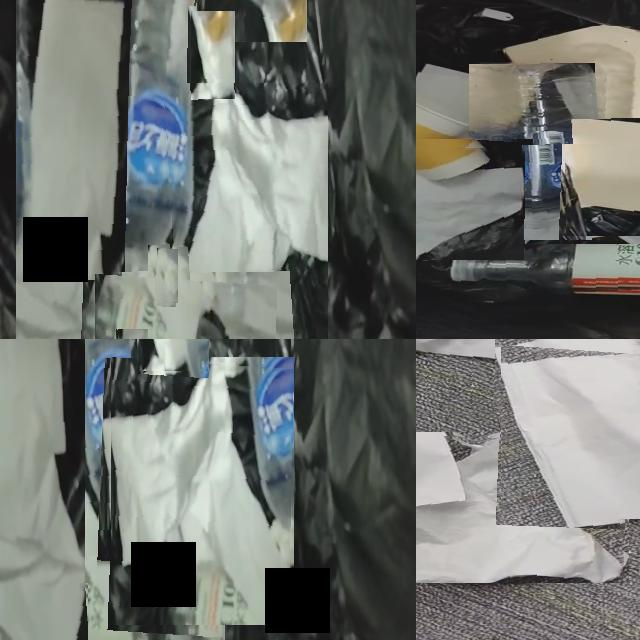bottle: (110, 0, 196, 322), (469, 68, 590, 240), (79, 339, 166, 577), (33, 558, 193, 640), (450, 244, 640, 290), (95, 275, 177, 339)
carton: (505, 26, 640, 144), (565, 120, 640, 211)
dixie_cup: (416, 103, 472, 162)
paper: (111, 363, 291, 625), (174, 83, 328, 339), (16, 0, 125, 339), (416, 435, 625, 583), (0, 339, 85, 640), (501, 352, 640, 519), (416, 166, 525, 260), (416, 168, 524, 260), (191, 11, 235, 101), (416, 64, 477, 126), (155, 339, 208, 371), (62, 584, 88, 640), (157, 249, 178, 303), (619, 232, 640, 247)
